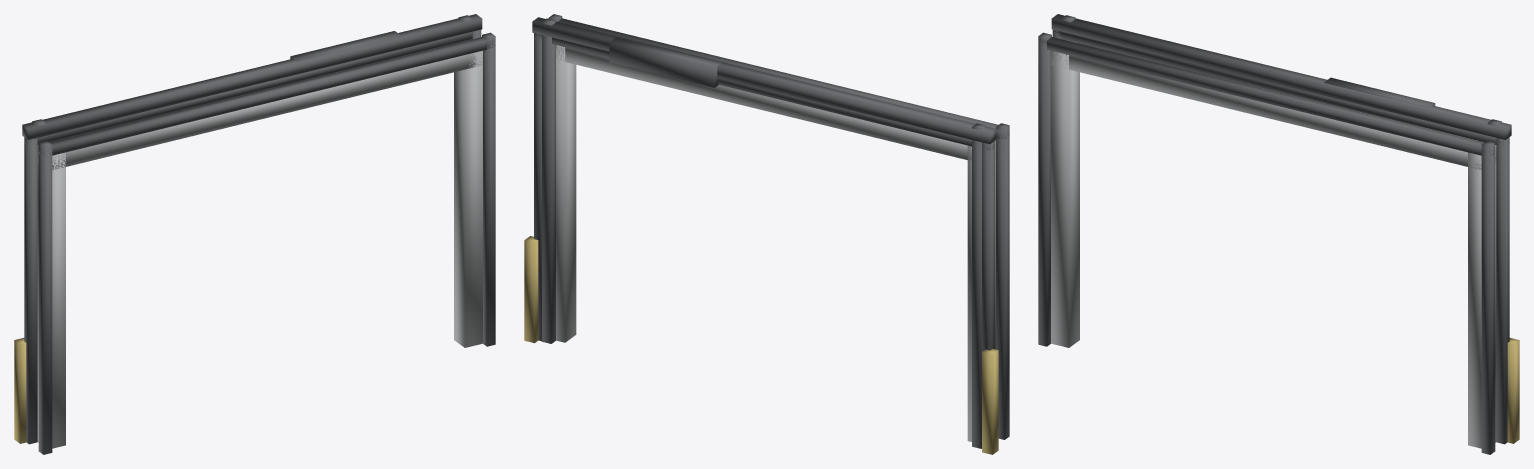
Rendered from bay_opening_service_bay_w420_h280_d20.glb.
3 views of the same model, side by side, from view 1: azimuth 30°, elevation 25°; view 2: azimuth 150°, elevation 25°; view 3: azimuth 330°, elevation 25° (orthographic).
Parts seen in each view (by area): view 1: world; view 2: world; view 3: world.
Part boxes in pixels (x1,y1,x2,y2): world: (14,14,495,454); world: (524,14,1009,454); world: (1038,14,1519,454).
Size of the model in its own units: 4.89 by 3.19 by 0.422.
